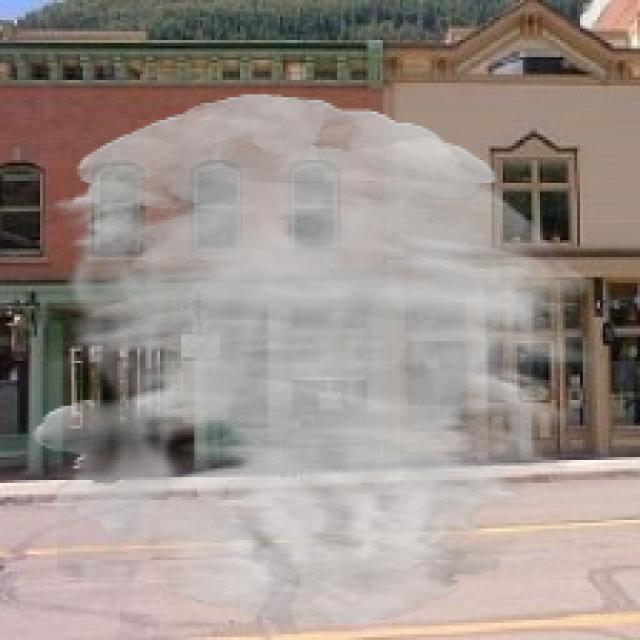smoke: (31, 94, 600, 626)
